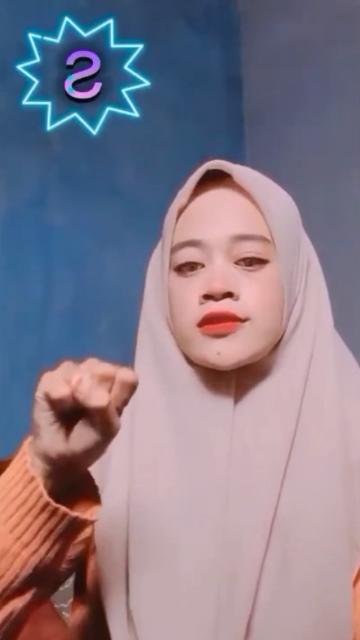S: (22, 355, 146, 467)
